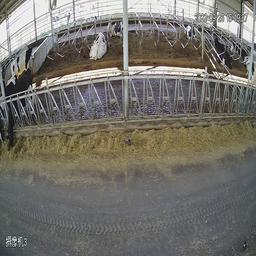cow: (7, 69, 37, 159), (210, 31, 232, 70), (87, 28, 108, 67), (9, 44, 36, 72), (181, 19, 196, 46), (112, 13, 122, 43)
